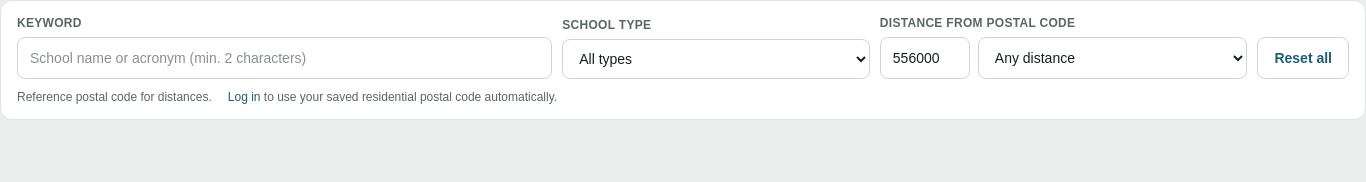
Test: SchoolFilterBar (REQ-1.1 to REQ-1.5, REQ-1.15) › keyword validation › reports stripped symbols
Step 1. Type "<script>" into the field labelled "Keyword" → (285, 58), box [17,37,552,79]
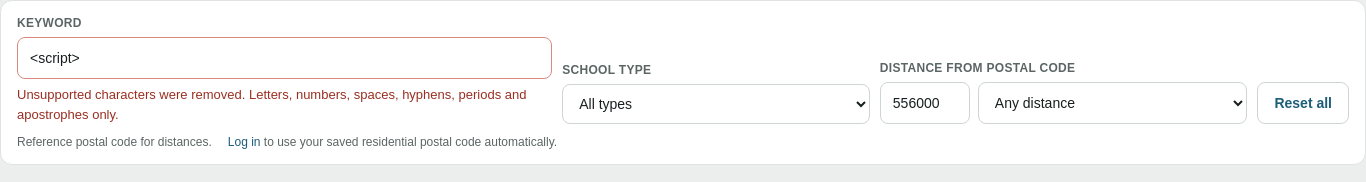
expect the message shows "Unsupported characters were removed": met, box [17,87,526,122]
